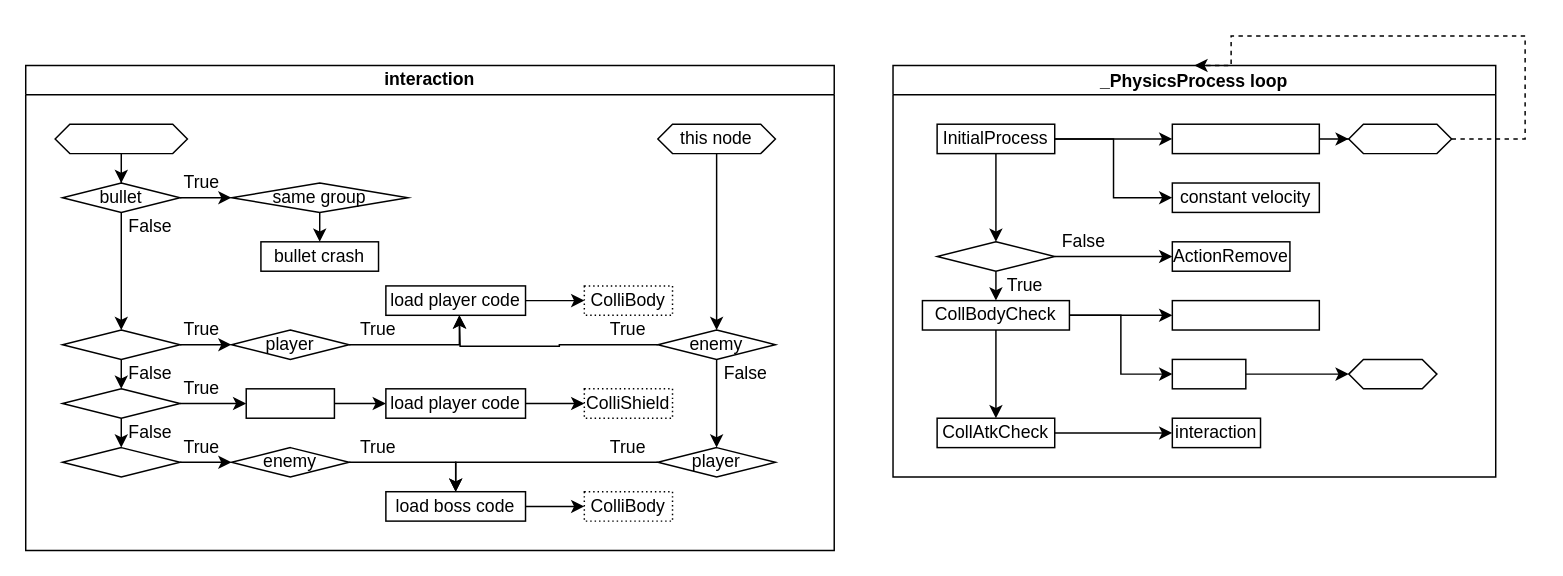
This 1563x576 diagram has some shape labels left out. Here are the shapes that lost their labels. From the top down, the centre of each, then its label:
point (120, 138): collision node
point (1245, 138): convert delta time
point (1399, 138): deltaTime
point (995, 255): active
point (1245, 314): sound effect
point (120, 344): body
point (1208, 373): bounce
point (1392, 373): Velocity
point (120, 402): shield
point (289, 402): reflection
point (120, 461): boss
